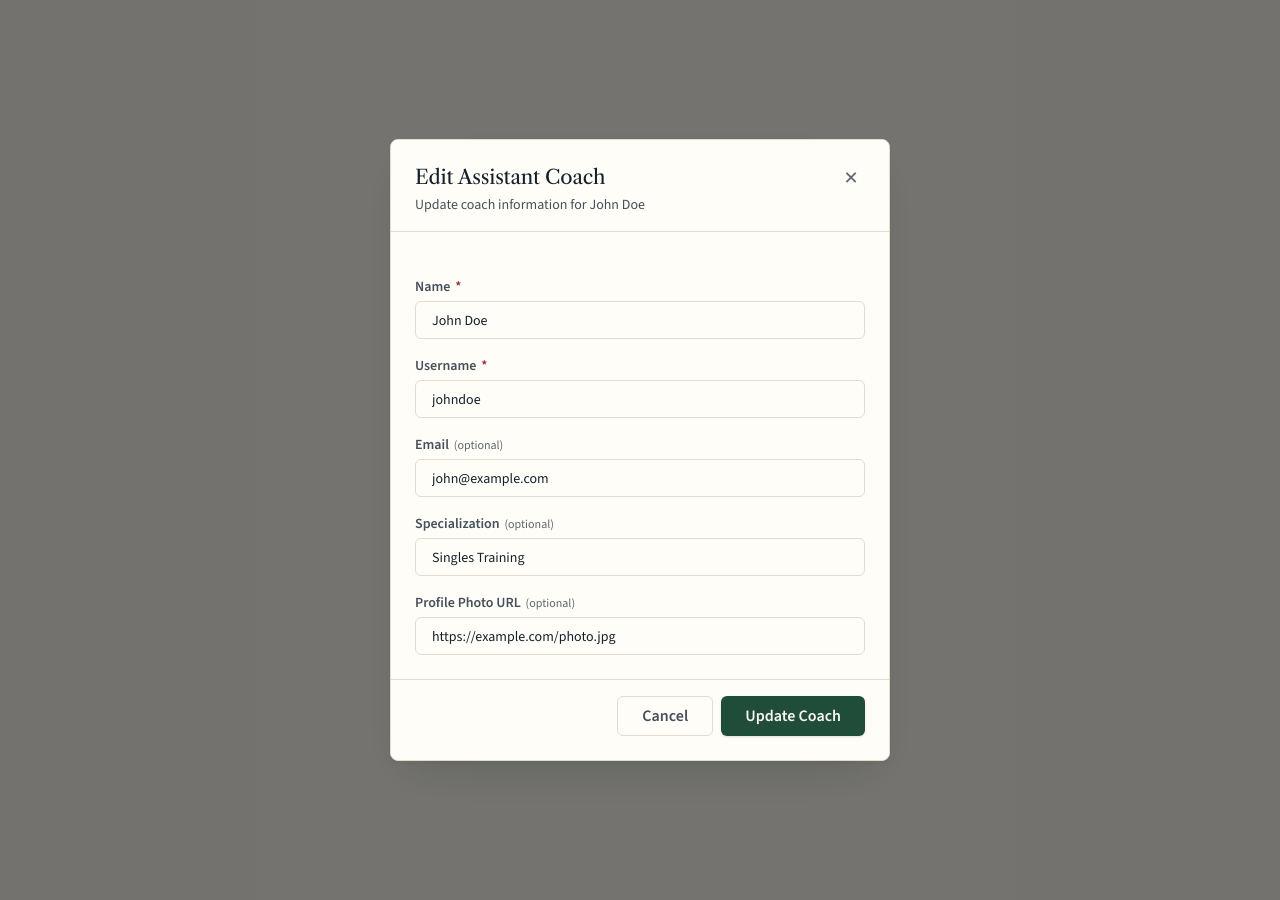
it: EditCoachModal › validates username minimum length
The image size is (1280, 900).
Replace the text in the field labelled "Username *" with "ab" at (640, 399), box [415,380,865,418]
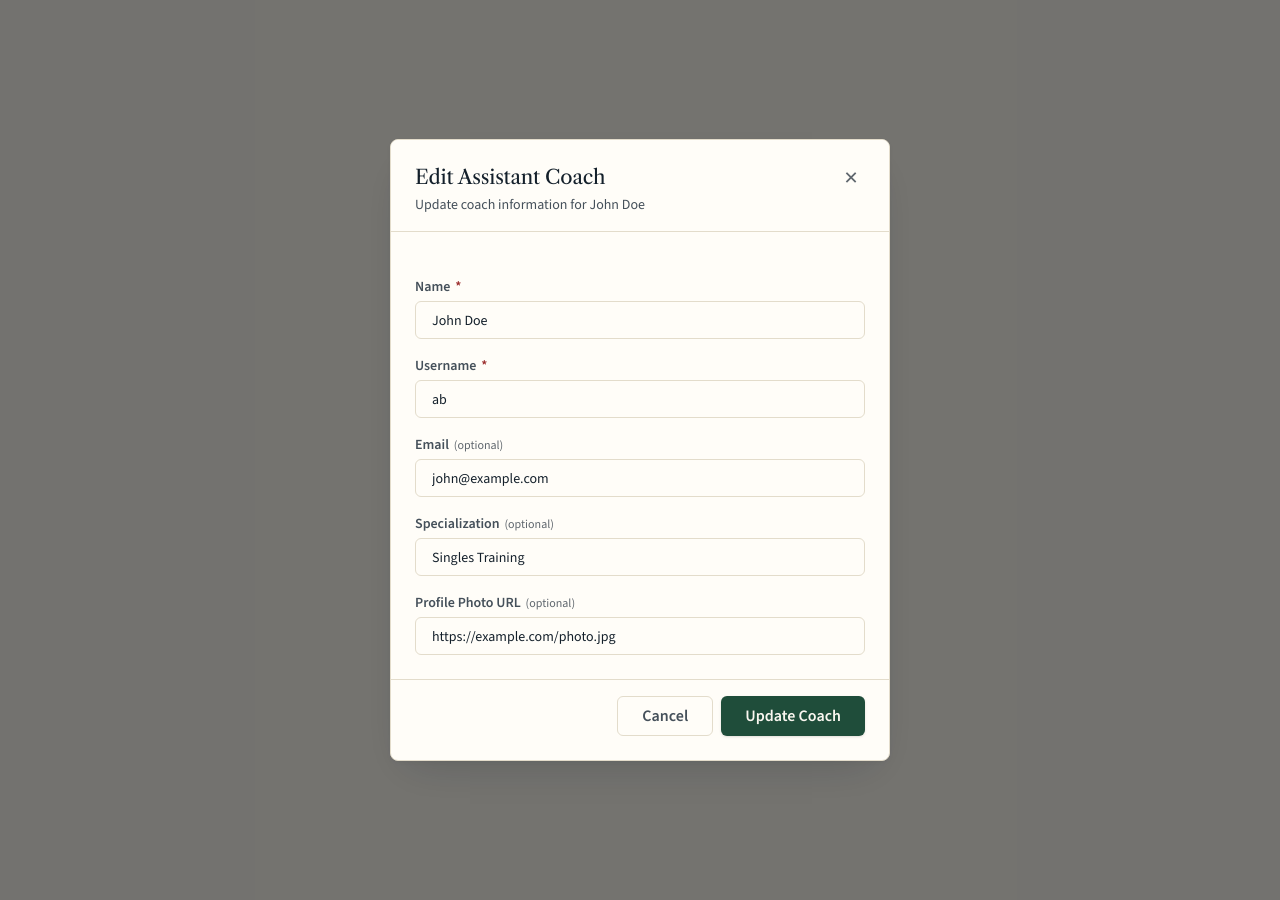
Click the button "Update Coach" at (793, 716), box [721,696,865,736]
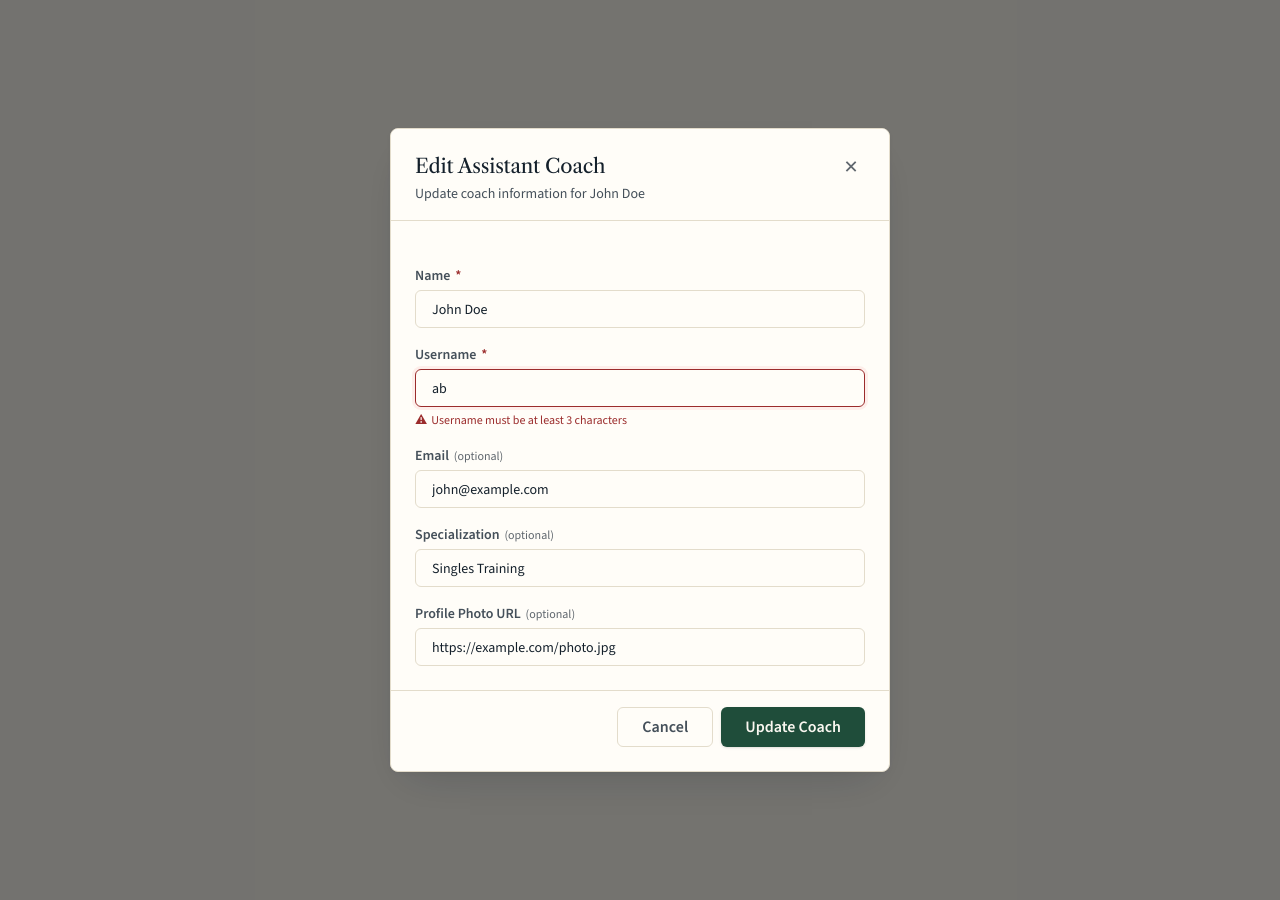
Check: the text "Username must be at least 3 characters" is shown, box [431,412,627,428]
